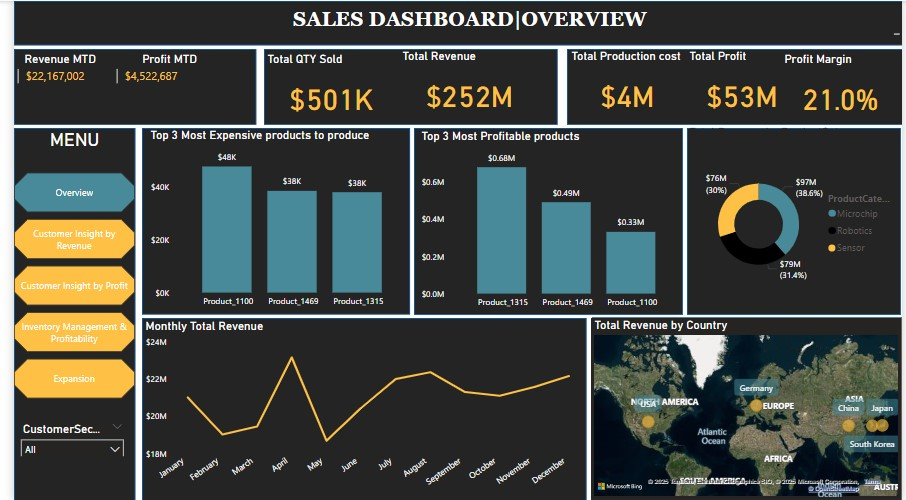

Layout of this report page (visuals, bound fields, positions):
{"tool":"powerbi","page":{"name":"Overview","canvas":[1280,720],"ordinal":0},"visuals":[{"type":"shape","box":[0,183.1,174.7,537.5],"z":0},{"type":"shape","box":[0,0,1280,63.8],"z":1000},{"type":"shape","box":[0,68.9,349.4,109.2],"z":2000},{"type":"shape","box":[796.3,69.1,483.8,109.4],"z":3000},{"type":"shape","box":[359.5,68.9,423.3,109.2],"z":4000},{"type":"cardVisual","title":"Total QTY Sold","fields":{"Data":["Calculations.Total QTY Sold"]},"box":[359.5,73.9,194.9,109.2],"z":5000},{"type":"cardVisual","title":"Total Revenue","fields":{"Data":["Calculations.Total Revenue"]},"box":[554.3,68.9,203.3,109.2],"z":6000},{"type":"cardVisual","title":"Total Profit","fields":{"Data":["Calculations.Total Profit"]},"box":[967.6,68.9,161.3,109.2],"z":7000},{"type":"cardVisual","title":"Total Production cost","fields":{"Data":["Calculations.Total Production Cost"]},"box":[797.8,69.1,171.4,109.4],"z":8000},{"type":"slicer","fields":{"Values":["CUSTOMER_DIM.CustomerSector"]},"box":[0,600.5,168.5,54.7],"z":9000},{"type":"shape","box":[184.8,183.1,386.4,268.8],"z":10000},{"type":"shape","box":[576.4,182.9,387.4,269.3],"z":11000},{"type":"shape","box":[969.1,182.9,308.2,269.3],"z":12000},{"type":"shape","box":[184.8,456.9,640,263.7],"z":13000},{"type":"shape","box":[832.2,455.5,446.8,263.7],"z":14000},{"type":"textbox","title":"TECHTRONIX SALES DASHBOARD|OVERVIEW","box":[33.1,8.6,1247,44.6],"z":15000},{"type":"multiRowCard","title":"Revenue MTD","fields":{"Values":["Calculations.Revenue MTD"]},"box":[0,73.9,132.7,77.3],"z":16000},{"type":"multiRowCard","title":"Profit MTD","fields":{"Values":["Calculations.Profit MTD"]},"box":[142.6,73.4,162.7,77.8],"z":17000},{"type":"columnChart","title":"Top 3 Most Expensive products to produce","fields":{"Y":["Calculations.Total Production Cost"],"Category":["PRODUCT_DIM.ProductName"]},"box":[191.5,183.1,384.7,267.1],"z":18000},{"type":"columnChart","title":"Top 3 Most Profitable  products","fields":{"Y":["Calculations.Total Profit"],"Category":["PRODUCT_DIM.ProductName"]},"box":[581.2,184.8,388,267.1],"z":19000},{"type":"donutChart","fields":{"Y":["Calculations.Total Revenue"],"Category":["PRODUCT_DIM.ProductCategory"]},"box":[967.6,178.1,307.4,267.1],"z":20000},{"type":"lineChart","title":"Monthly Total Revenue","fields":{"Category":["Calender_Dim.Month_Name"],"Y":["Calculations.Total Revenue"]},"box":[184.8,458.6,640,262],"z":21000},{"type":"map","fields":{"Category":["LOCATION_DIM.Country"],"Size":["Calculations.Total Revenue"]},"box":[831.5,456.9,446.8,262],"z":22000},{"type":"pageNavigator","title":"MENU","box":[0,223.4,174.7,351.1],"z":23000},{"type":"textbox","title":"MENU","box":[0,184.8,174.7,33.6],"z":24000},{"type":"cardVisual","title":"Profit Margin","fields":{"Data":["Calculations.Profit Margin"]},"box":[1104.5,73.4,172.8,109.4],"z":25000}]}

Visuals, with their boxes in screenshot pixels (x1, y1, x2, y2), scaled from the page's 1280x720 canvas onto the 906x500 screenshot:
shape: box(0, 127, 124, 499)
shape: box(0, 0, 905, 44)
shape: box(0, 48, 247, 124)
shape: box(564, 48, 905, 124)
shape: box(254, 48, 554, 124)
"Total QTY Sold" cardVisual: box(254, 51, 392, 127)
"Total Revenue" cardVisual: box(392, 48, 536, 124)
"Total Profit" cardVisual: box(685, 48, 799, 124)
"Total Production cost" cardVisual: box(565, 48, 686, 124)
slicer - CUSTOMER_DIM.CustomerSector: box(0, 417, 119, 455)
shape: box(131, 127, 404, 314)
shape: box(408, 127, 682, 314)
shape: box(686, 127, 904, 314)
shape: box(131, 317, 584, 499)
shape: box(589, 316, 905, 499)
"TECHTRONIX SALES DASHBOARD|OVERVIEW" textbox: box(23, 6, 905, 37)
"Revenue MTD" multiRowCard: box(0, 51, 94, 105)
"Profit MTD" multiRowCard: box(101, 51, 216, 105)
"Top 3 Most Expensive products to produce" columnChart: box(136, 127, 408, 313)
"Top 3 Most Profitable  products" columnChart: box(411, 128, 686, 314)
donutChart - Calculations.Total Revenue x PRODUCT_DIM.ProductCategory: box(685, 124, 902, 309)
"Monthly Total Revenue" lineChart: box(131, 318, 584, 499)
map - LOCATION_DIM.Country x Calculations.Total Revenue: box(589, 317, 905, 499)
"MENU" pageNavigator: box(0, 155, 124, 399)
"MENU" textbox: box(0, 128, 124, 152)
"Profit Margin" cardVisual: box(782, 51, 904, 127)
